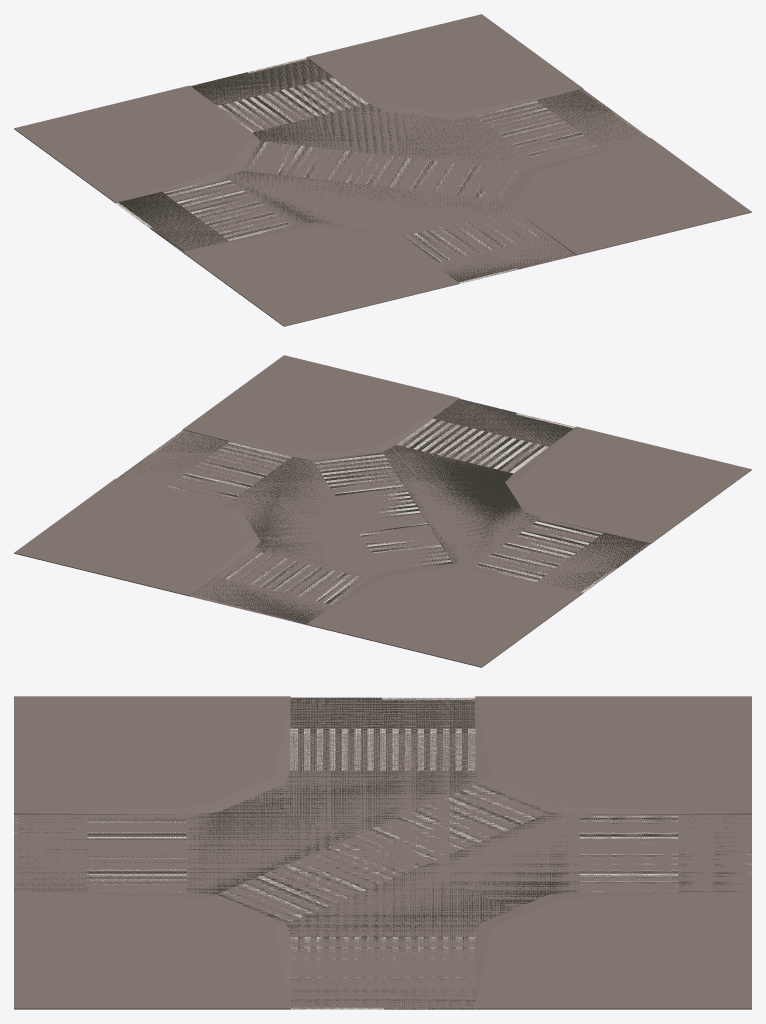
The model's file is Env_2lane_Cross.fbx.
The picture shows the model from 3 angles, top to bottom: view 1: azimuth 30°, elevation 25°; view 2: azimuth 150°, elevation 25°; view 3: azimuth 270°, elevation 25°; orthographic projection. The views are drawn at different scales.
Parts seen in each view (by area): view 1: Env_2lane_Cross; view 2: Env_2lane_Cross; view 3: Env_2lane_Cross.
Boxes of the visible parts, x1=… form: Env_2lane_Cross: x1=14, y1=14, x2=751, y2=326; Env_2lane_Cross: x1=14, y1=355, x2=751, y2=667; Env_2lane_Cross: x1=14, y1=696, x2=751, y2=1009.
Size of the model in its own units: 6000 by 10 by 6000.
